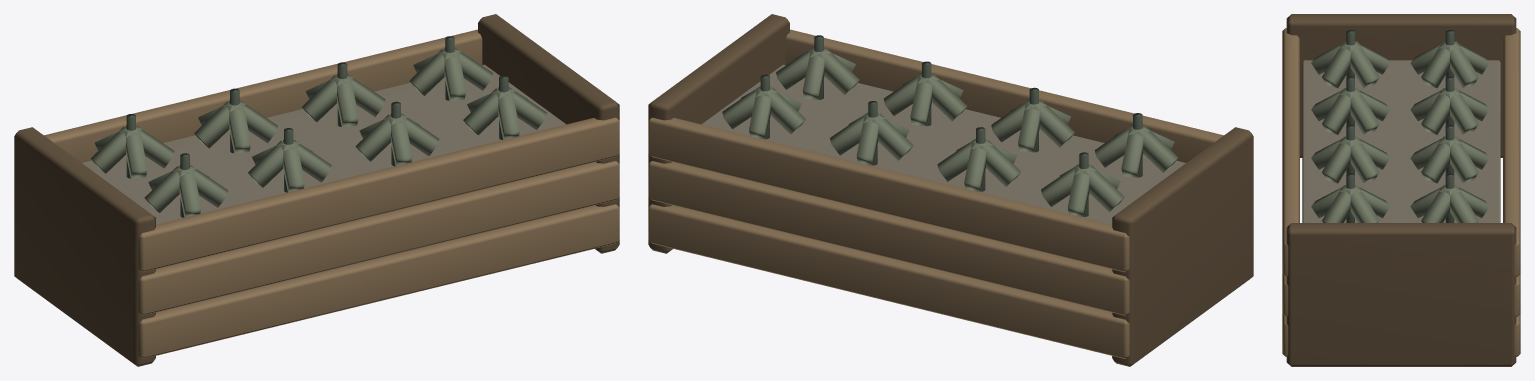
The model's file is Planter02.fbx.
3 renders of one model, left to right at view 1: azimuth 30°, elevation 25°; view 2: azimuth 150°, elevation 25°; view 3: azimuth 270°, elevation 25°, orthographic. The views are drawn at different scales.
Parts seen in each view (by area): view 1: Planter02; view 2: Planter02; view 3: Planter02.
Boxes of the visible parts, x1=… form: Planter02: x1=14, y1=14, x2=619, y2=366; Planter02: x1=648, y1=14, x2=1253, y2=366; Planter02: x1=1282, y1=14, x2=1520, y2=366.
Bounding box in the file's own units: 235 × 78 × 108.
